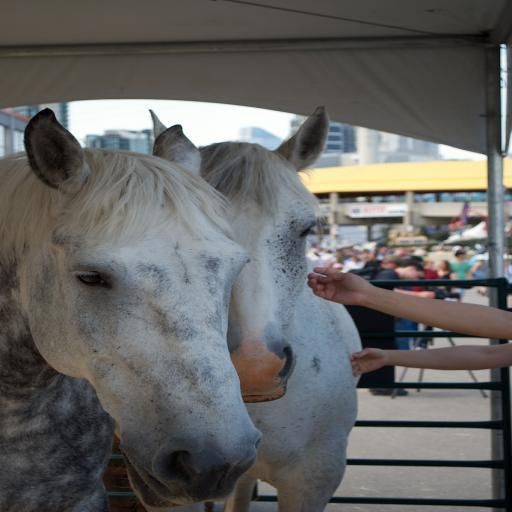horse: (0, 106, 264, 512), (120, 106, 366, 512)
